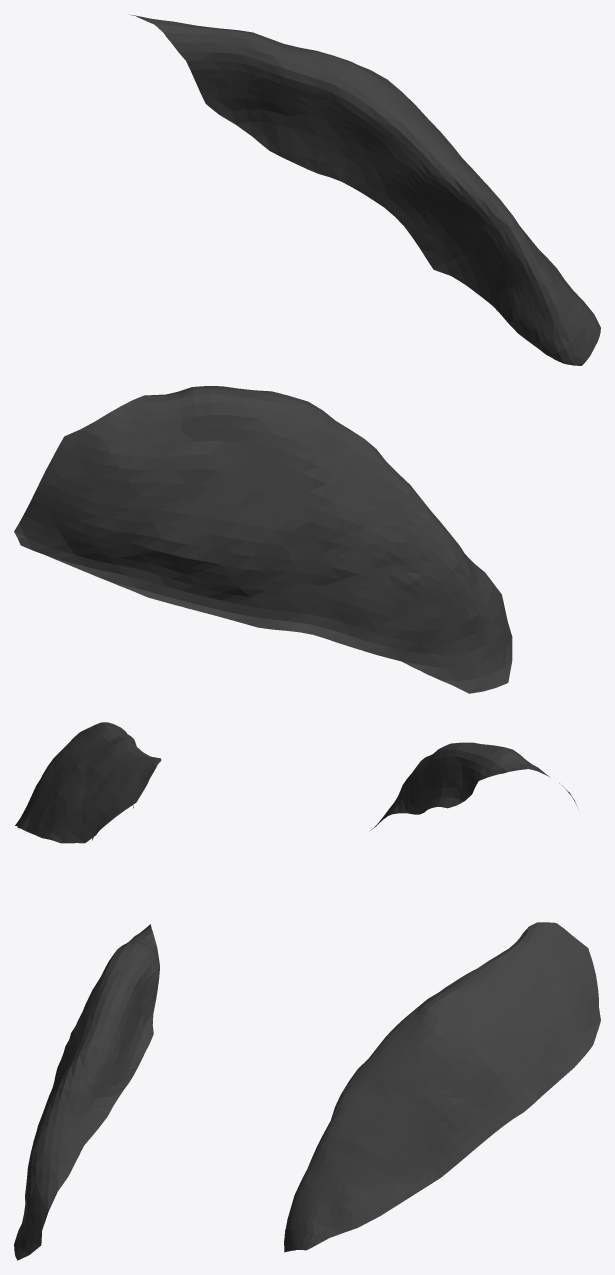
Rendered from eq_dist_limb_Hoof_Cartilage.glb.
The picture shows the model from 3 angles, top to bottom: view 1: azimuth 30°, elevation 25°; view 2: azimuth 150°, elevation 25°; view 3: azimuth 270°, elevation 25°; orthographic projection. The views are drawn at different scales.
Parts seen in each view (by area): view 1: eq_dist_limb_Hoof_Cartilage; view 2: eq_dist_limb_Hoof_Cartilage; view 3: eq_dist_limb_Hoof_Cartilage.
Boxes of the visible parts, box(x1,y1,x2,y2) form: eq_dist_limb_Hoof_Cartilage: box(14, 14, 600, 693); eq_dist_limb_Hoof_Cartilage: box(15, 722, 577, 843); eq_dist_limb_Hoof_Cartilage: box(14, 922, 600, 1260).
Size of the model in its own units: 0.0124 by 0.00748 by 0.0121.
Materials: 1 (1 with a texture image).
